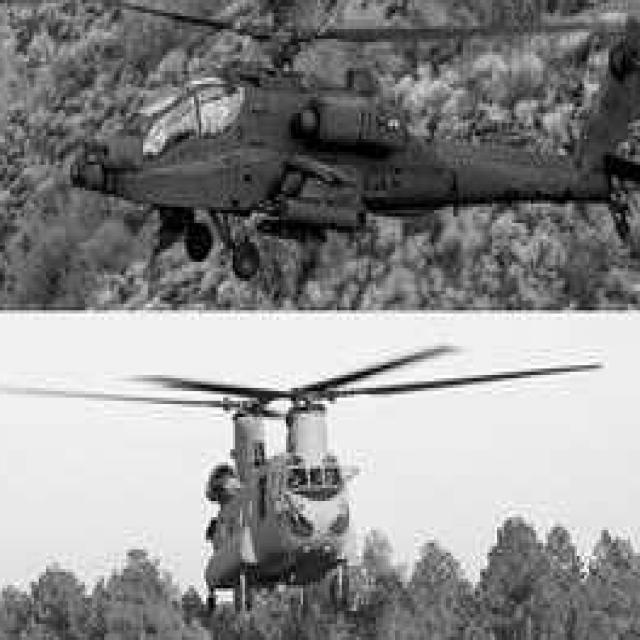helicopter: (25, 1, 640, 295), (147, 321, 426, 640)
